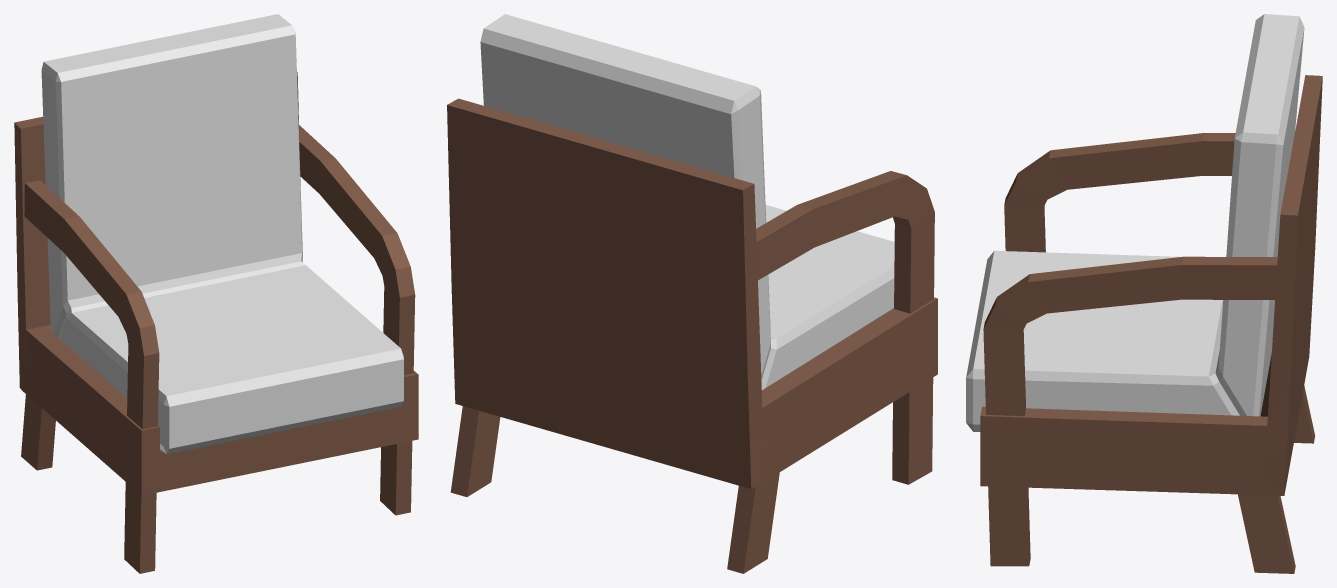
Rendered from Patio_Chair.fbx.
3 views of the same model, side by side, from view 1: azimuth 30°, elevation 25°; view 2: azimuth 150°, elevation 25°; view 3: azimuth 270°, elevation 25° (orthographic). The views are drawn at different scales.
Visible parts, largest first — view 1: Patio_Chair; view 2: Patio_Chair; view 3: Patio_Chair.
Part boxes in pixels (x1,y1,x2,y2): Patio_Chair: (14,14,418,573); Patio_Chair: (447,14,937,573); Patio_Chair: (966,14,1322,573).
Size of the model in its own units: 95.39 by 95.79 by 130.
